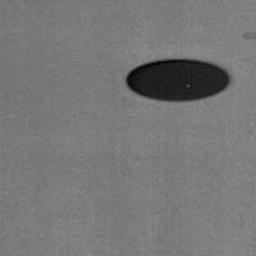Punching: (127, 59, 229, 101)
